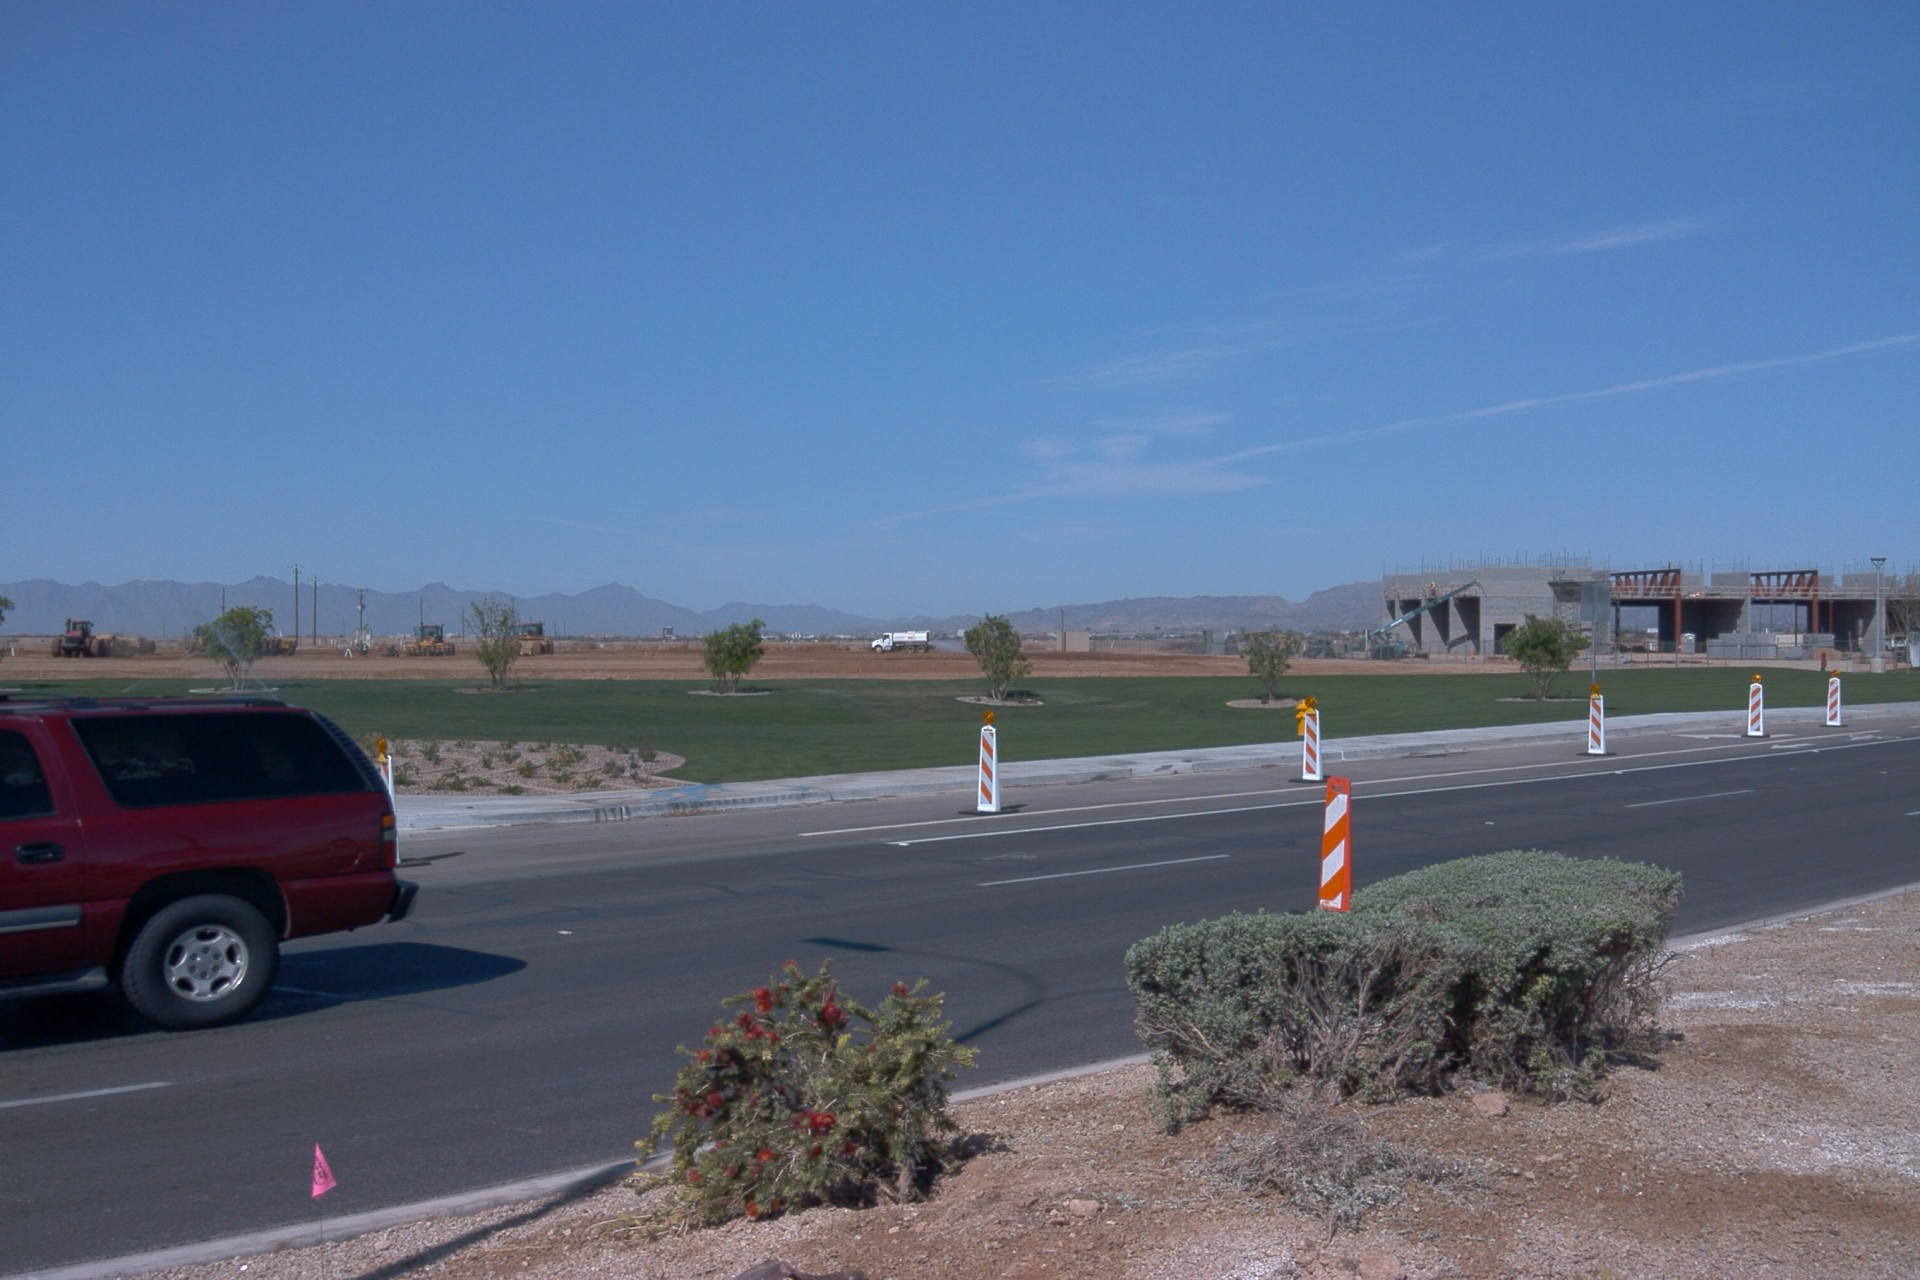TYPE_PEDESTRIAN: (363, 642, 369, 658)
TYPE_VEHICLE: (0, 689, 422, 1033), (1367, 581, 1486, 656), (47, 615, 108, 659), (871, 632, 937, 661), (257, 625, 300, 657), (195, 623, 210, 654)
